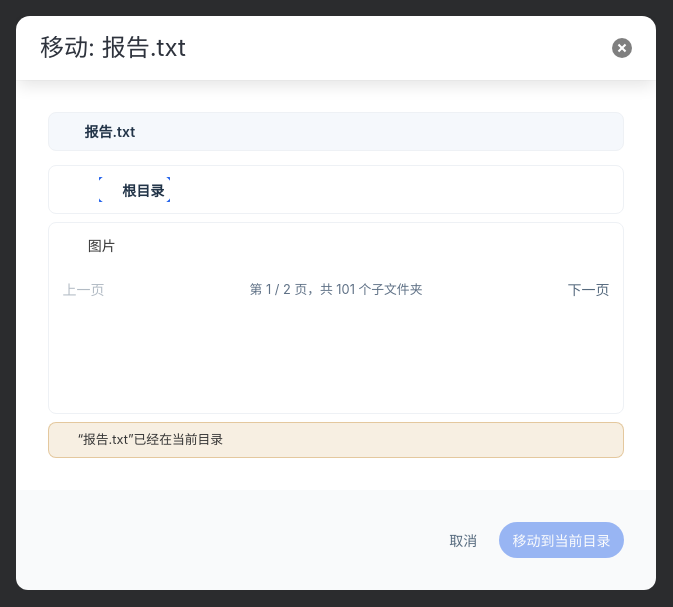
Test case: MoveDialog.vue › loads the next directory page on demand
Expected: the text "图片" is shown, [88,237,116,254]
Expected: the text "第 1 / 2 页，共 101 个子文件夹" is shown, [250,280,422,299]
Step 1. Click the button "下一页" → coordinates (588, 289), box [554,271,623,307]
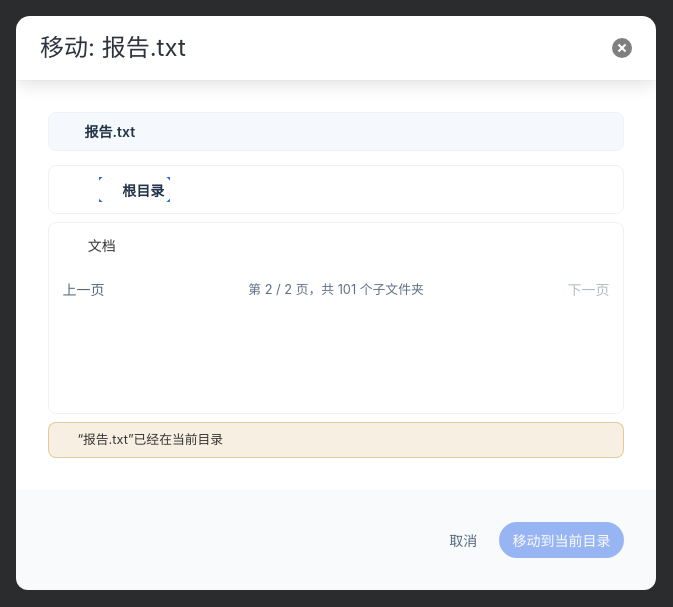
Expected: the text "文档" is shown, [88,237,116,254]
